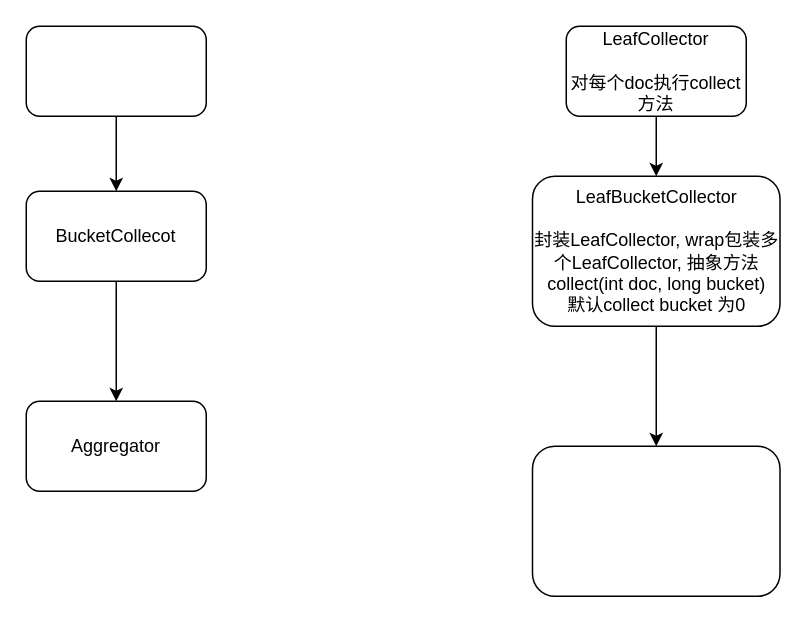
The diagram is 807 pixels wide and 623 high, and some of its shapes have lost their labels. Here are the shapes that lost their labels. From the top down, the box of each, then its label:
(25, 25, 206, 116): Collector 获取LeafCollector
(531, 445, 780, 596): LeafBucketCollectorBase 封装LeafBucketCollector和ScoreAware
